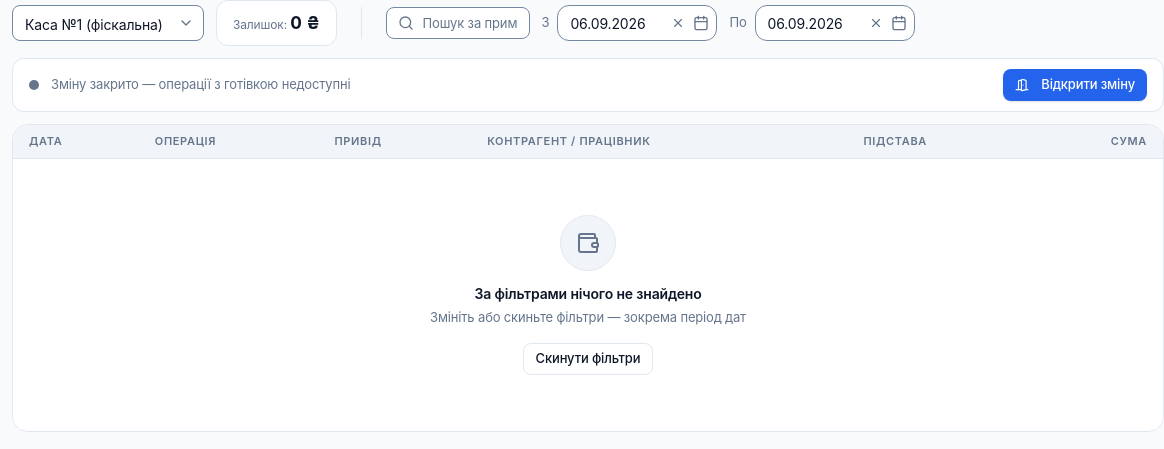
Test: CashOperationsTab — ПРРО зміна (фіскальна каса) › нефіскальна каса → стан зміни не питається, віджета зміни немає
Expected: the text "Зміну закрито — операції з готівкою недоступні" is shown, [51,75,350,95]
Select "Каса без ПРРО" in the dropdown at (108, 23), box [12,5,204,41]
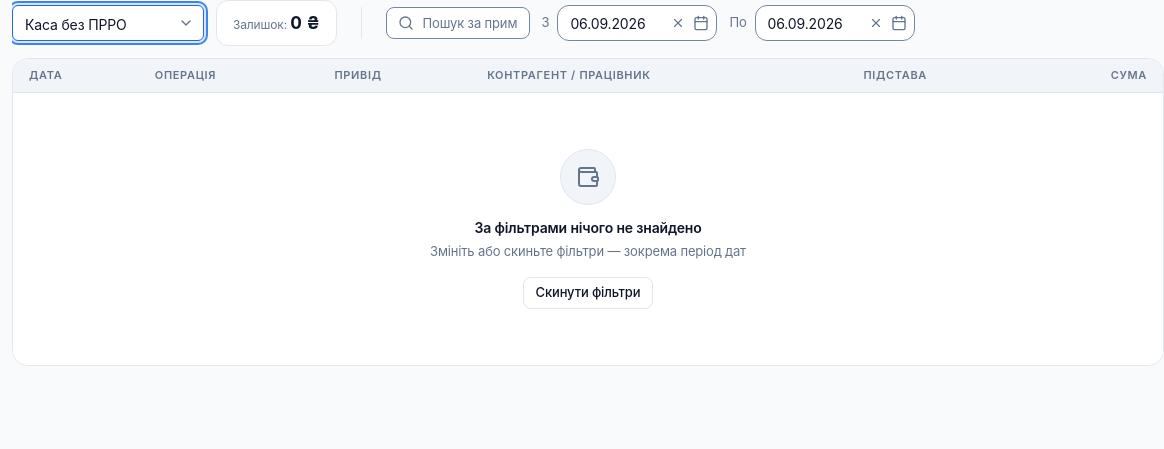
Expected: the text "Зміну закрито" is gone
Expected: the button "Відкрити зміну" is gone
